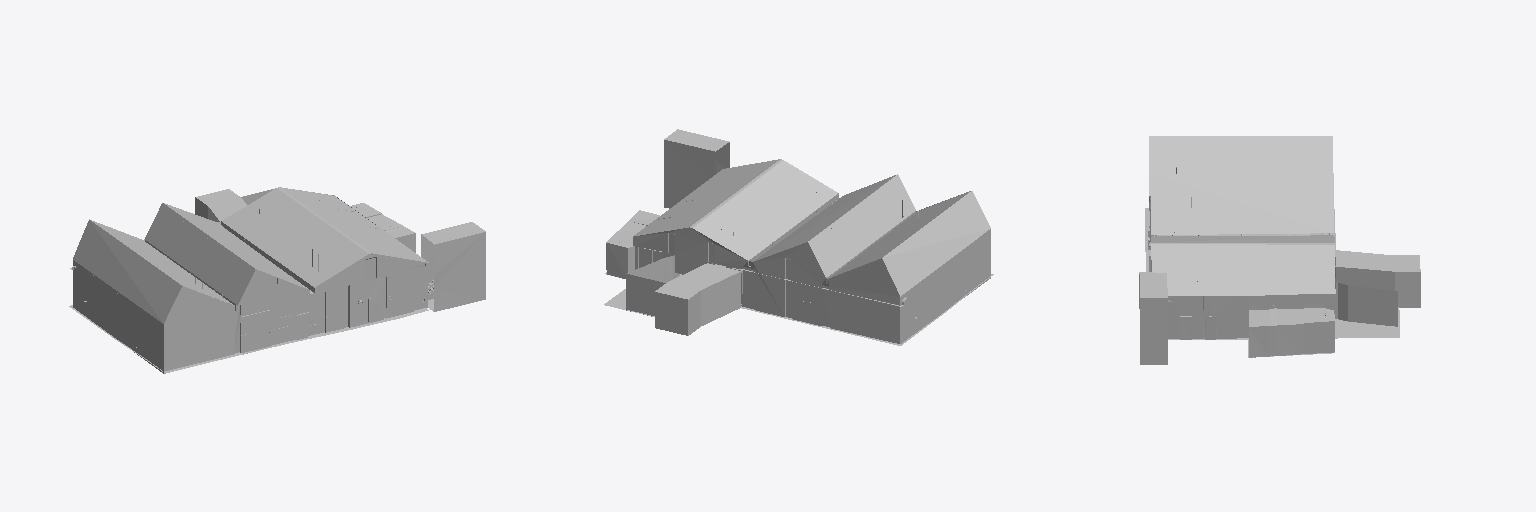
3 views of the same model, side by side, from view 1: azimuth 30°, elevation 25°; view 2: azimuth 150°, elevation 25°; view 3: azimuth 270°, elevation 25° (orthographic).
Parts seen in each view (by area): view 1: FVRBOW5K28TUGPPV2673XRH9I; view 2: FVRBOW5K28TUGPPV2673XRH9I; view 3: FVRBOW5K28TUGPPV2673XRH9I.
Part boxes in pixels (x1,y1,x2,y2): FVRBOW5K28TUGPPV2673XRH9I: (69, 187, 485, 373); FVRBOW5K28TUGPPV2673XRH9I: (604, 129, 993, 345); FVRBOW5K28TUGPPV2673XRH9I: (1139, 136, 1420, 364).
Bounding box in the file's own units: 52.63 × 16.26 × 39.99.